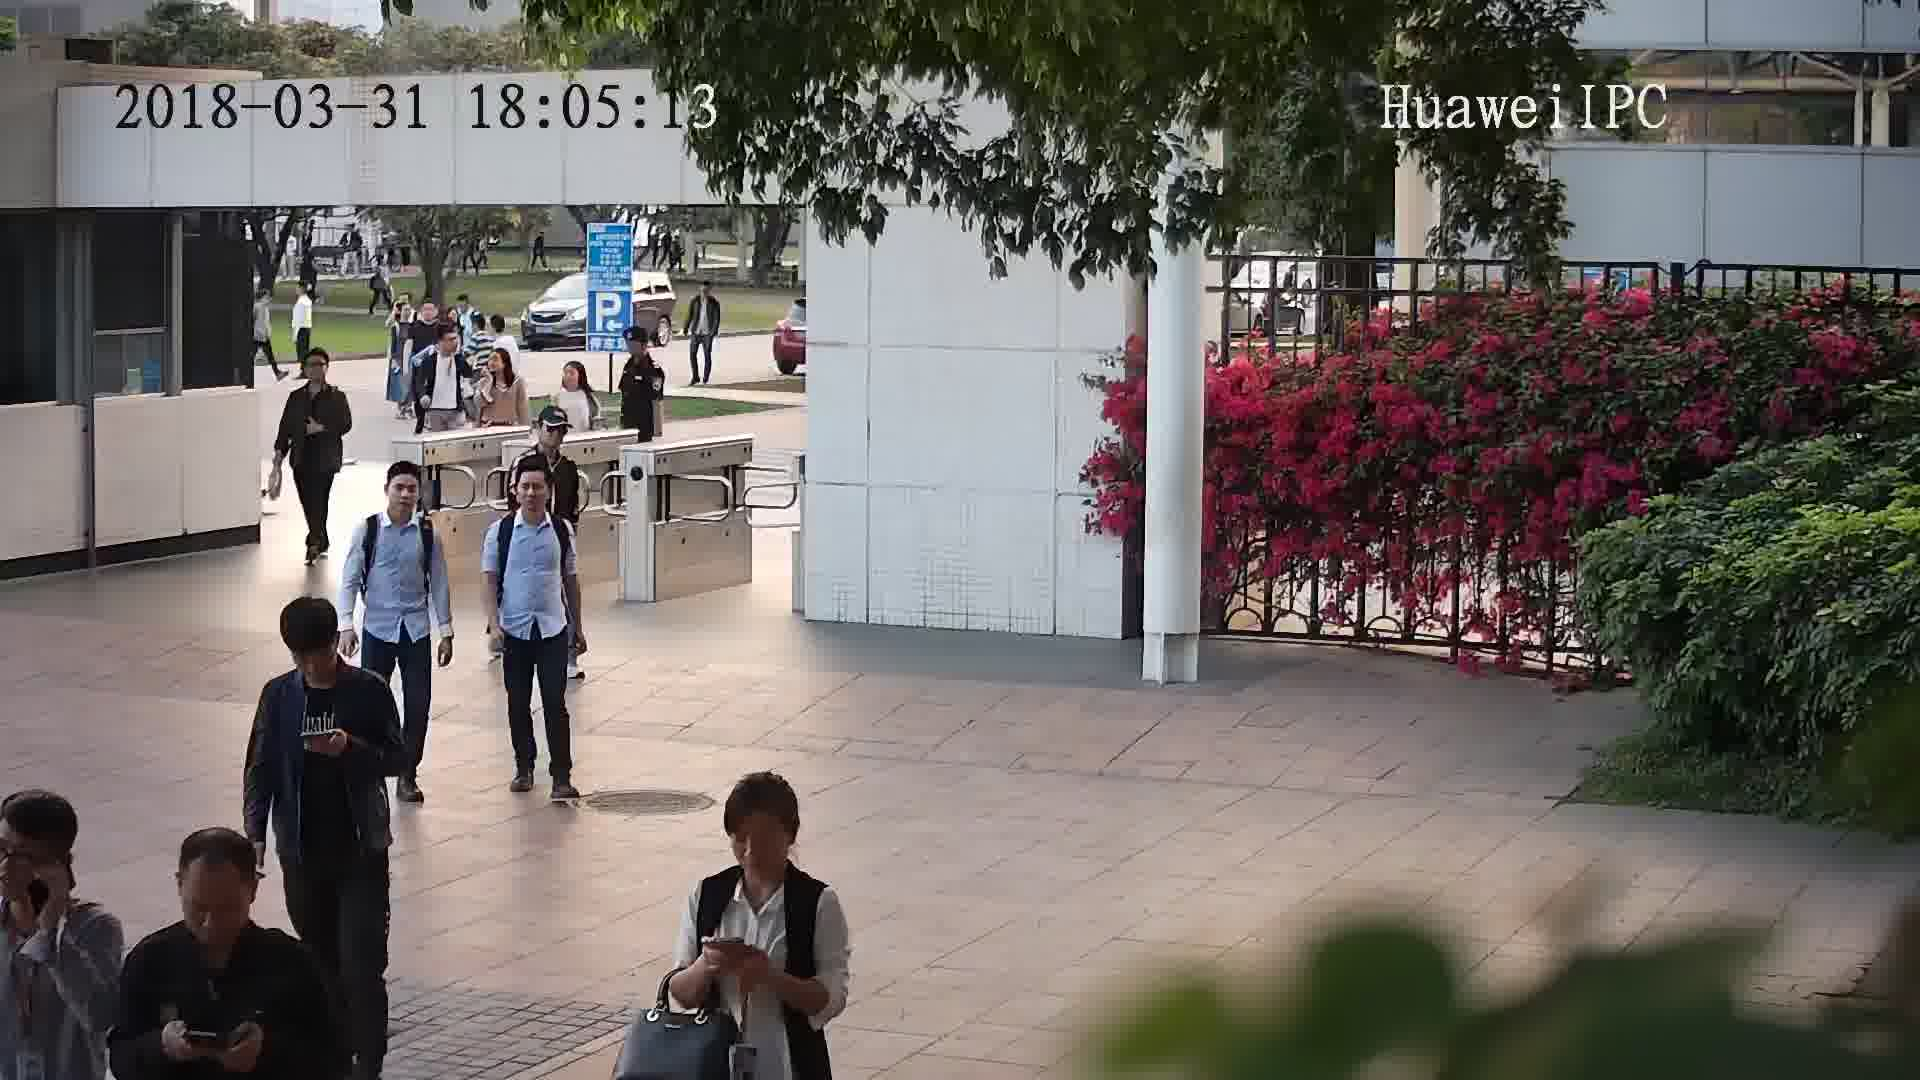face: (174, 862, 259, 947), (720, 805, 796, 881), (515, 472, 552, 519), (385, 472, 423, 516)
person: (127, 827, 319, 990), (688, 769, 840, 925), (2, 788, 131, 947), (256, 592, 391, 719), (350, 457, 439, 552), (489, 455, 573, 553), (515, 401, 583, 484), (287, 344, 347, 408), (419, 319, 470, 376), (481, 342, 529, 393), (620, 323, 665, 376), (551, 359, 598, 409), (405, 294, 441, 343), (486, 312, 516, 350), (693, 275, 722, 307), (466, 314, 493, 344), (290, 277, 316, 309), (392, 300, 413, 335)
